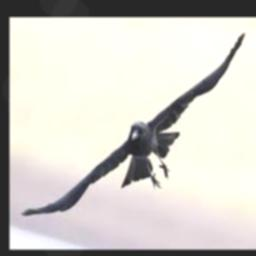Crow: (21, 31, 247, 217)
